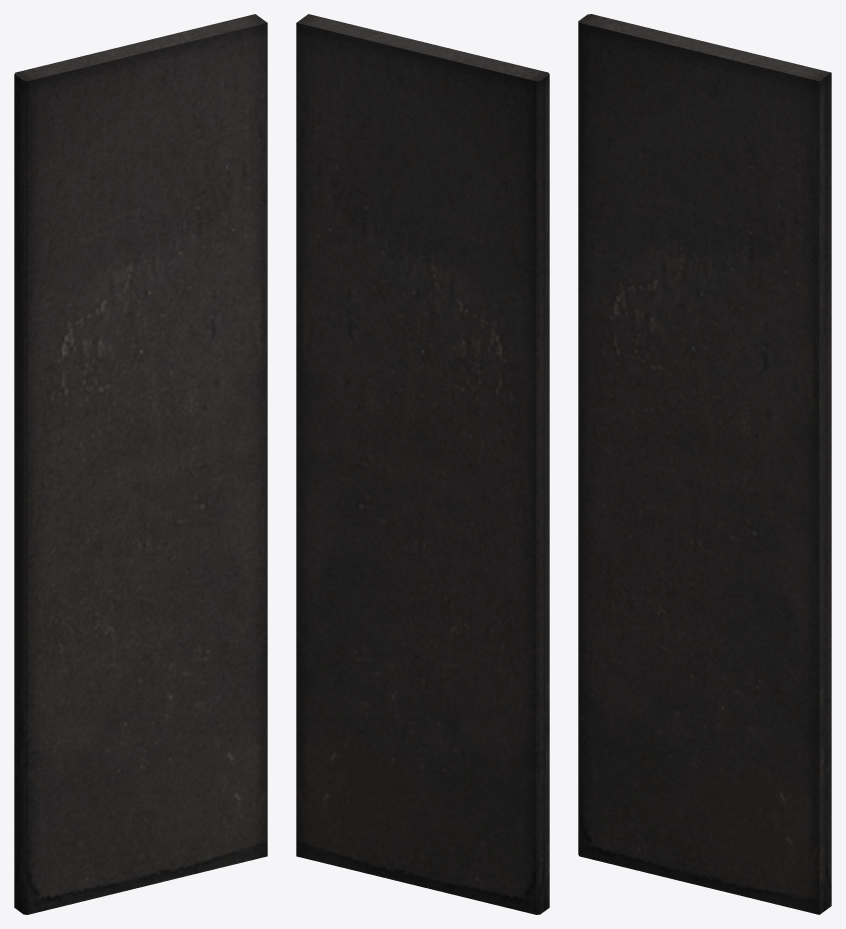
Rendered from elevator_door_1_b.fbx.
3 renders of one model, left to right at view 1: azimuth 30°, elevation 25°; view 2: azimuth 150°, elevation 25°; view 3: azimuth 330°, elevation 25°, orthographic.
Parts seen in each view (by area): view 1: elevator_door_1_b; view 2: elevator_door_1_b; view 3: elevator_door_1_b.
Boxes of the visible parts, x1,y1,x2,y2 form: elevator_door_1_b: (14, 14, 267, 914); elevator_door_1_b: (296, 14, 549, 914); elevator_door_1_b: (578, 14, 831, 914).
Bounding box in the file's own units: 70 × 230 × 6.
